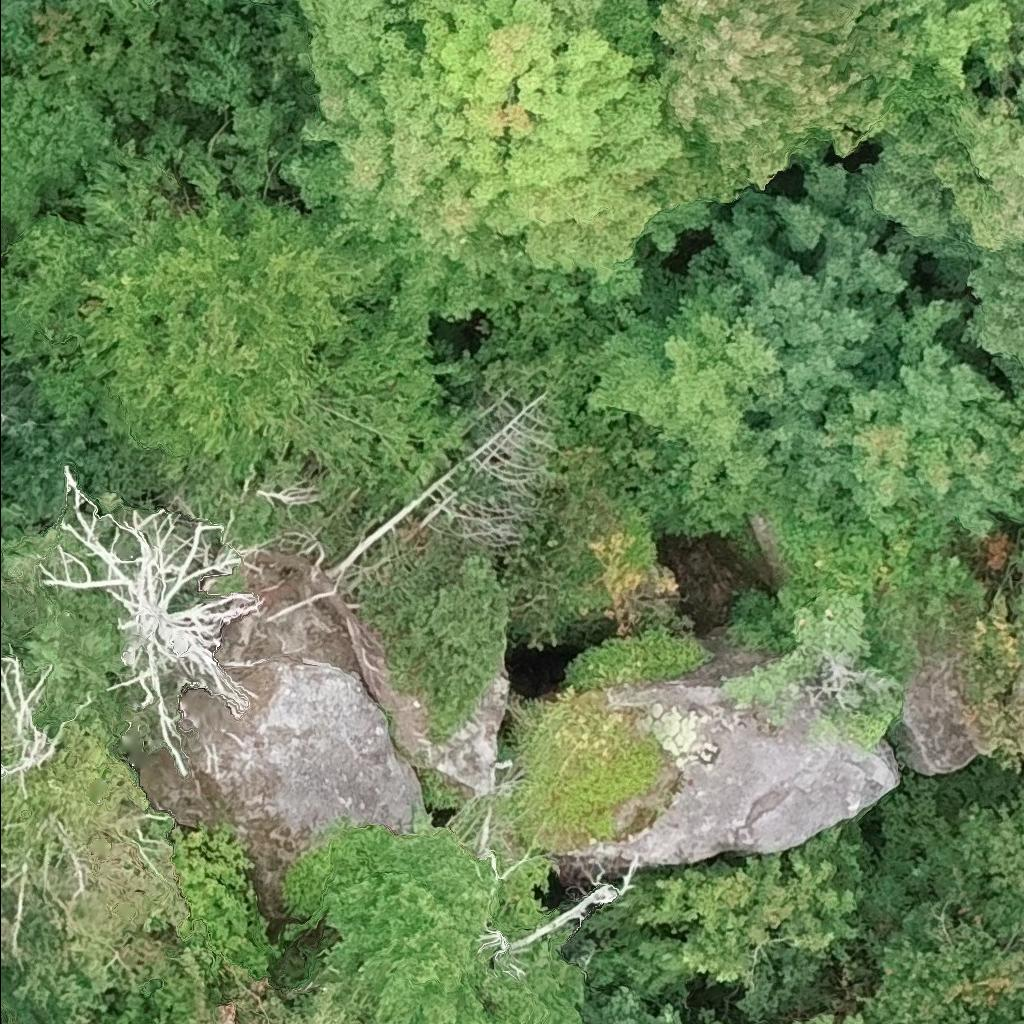crown: (0, 151, 471, 486), (281, 0, 720, 324), (684, 144, 1023, 538), (34, 468, 284, 782), (651, 0, 915, 206), (584, 276, 781, 501), (863, 786, 1023, 1023), (878, 40, 1023, 293), (957, 244, 1023, 395), (791, 1003, 867, 1023), (700, 1005, 780, 1023)
